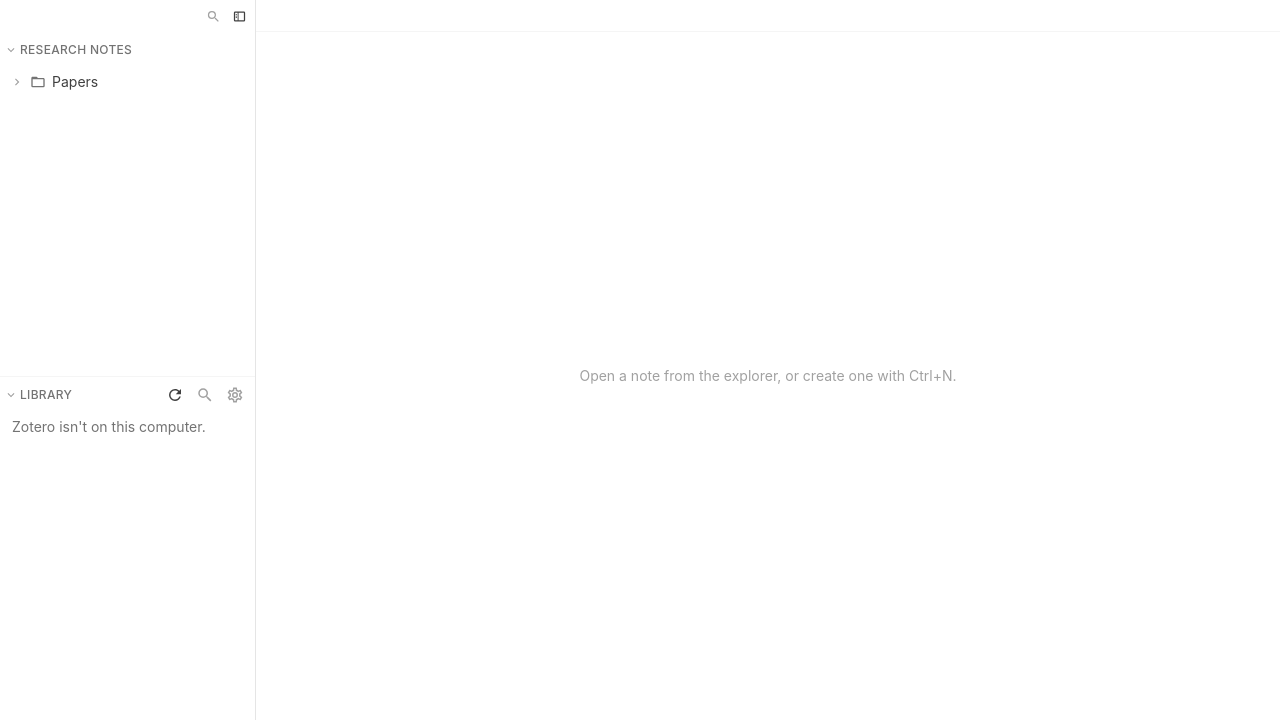
Test case: File explorer: what it shows › expands a folder when clicked, showing what's inside
Expected: the heading "Research Notes" is shown, 4,40 -> 161,60
Click the button "Papers": (128, 82) 6,68 -> 249,96
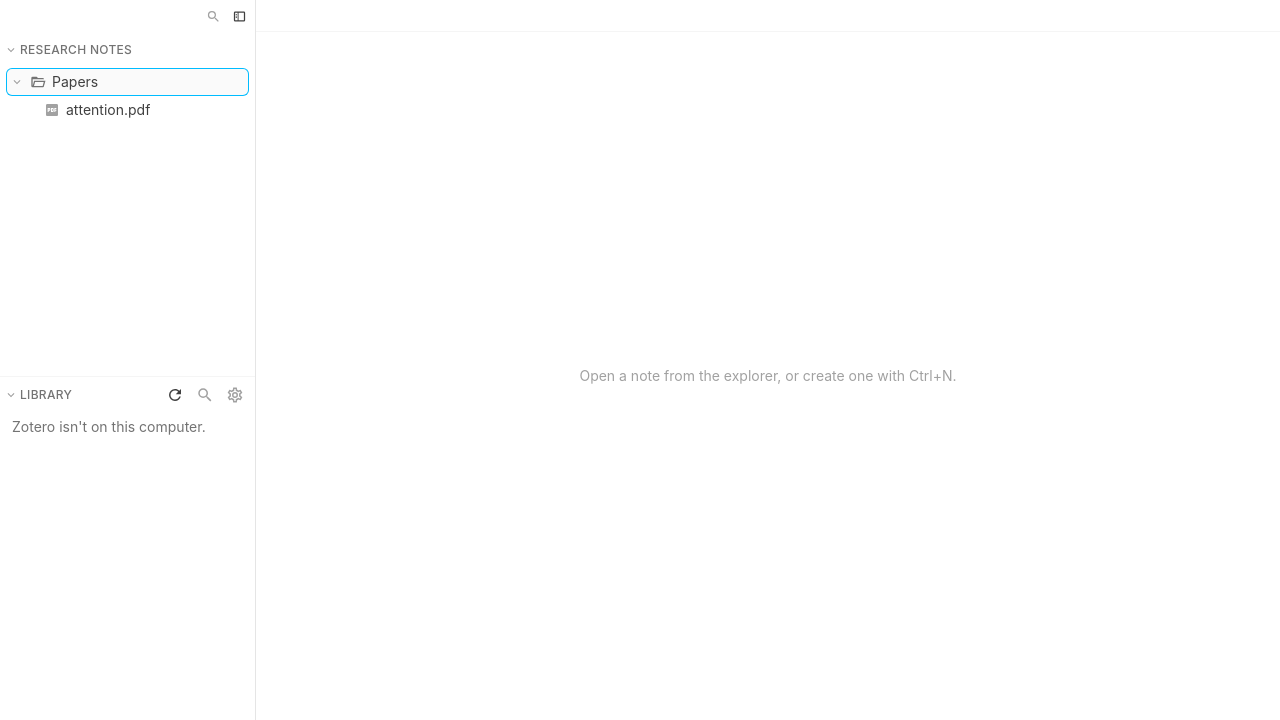
Expected: the button "Papers" is expanded, 6,68 -> 249,96
Expected: the text "attention.pdf" is shown, 66,100 -> 150,120
